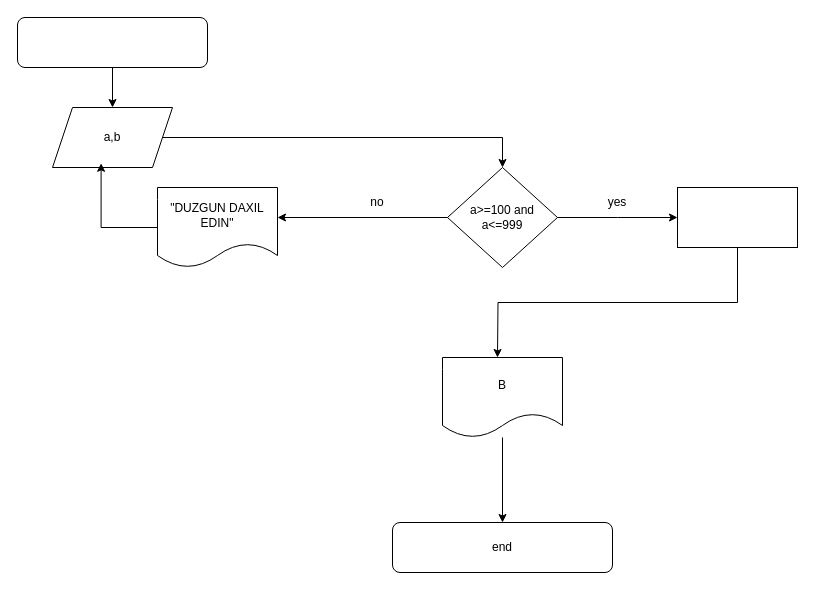
This 815x590 diagram has some shape labels left out. The centre of each missing label's shape, as x and y in pixels:
b=(7000+a)*10+8: the point at 737,217
Start: the point at 112,42
